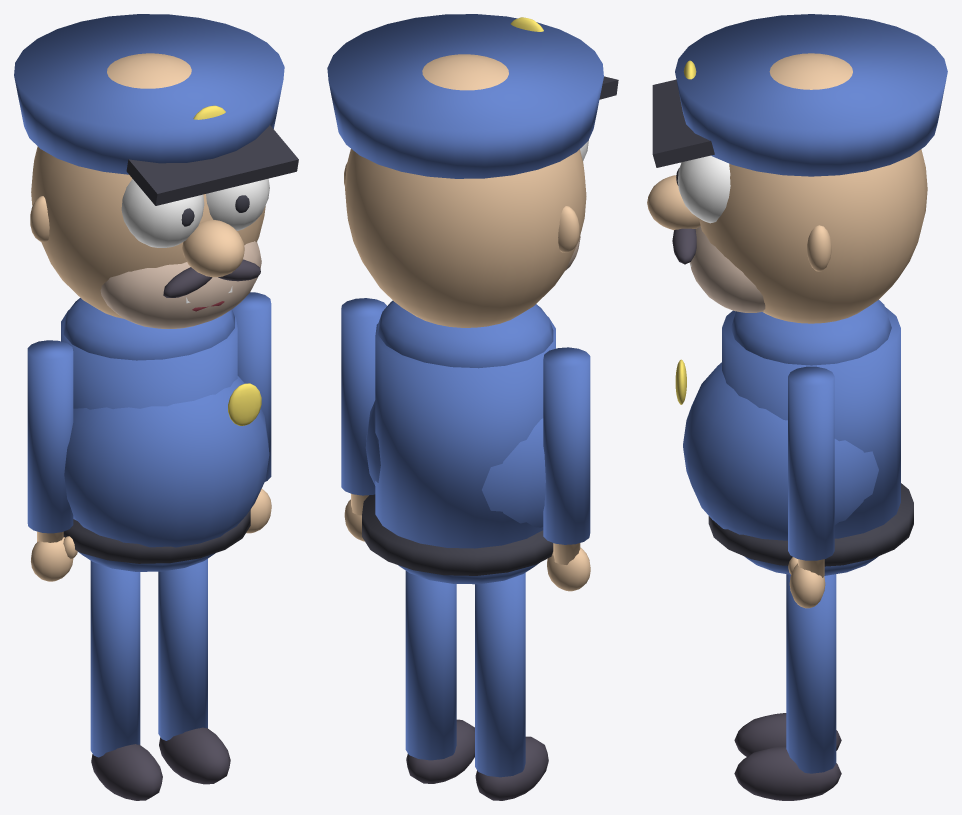
The model's file is Char_Polis.fbx.
3 renders of one model, left to right at view 1: azimuth 30°, elevation 25°; view 2: azimuth 150°, elevation 25°; view 3: azimuth 270°, elevation 25°, orthographic. The views are drawn at different scales.
Parts seen in each view (by area): view 1: Head, Torso, LegR, LegL, ArmR, ArmL; view 2: Head, Torso, LegR, LegL, ArmR, ArmL; view 3: Head, Torso, LegL, ArmL, LegR.
Part boxes in pixels (x1,y1,x2,y2): Head: (14, 14, 298, 328); Torso: (61, 298, 269, 571); LegR: (90, 561, 162, 800); LegL: (158, 559, 230, 784); ArmR: (27, 340, 77, 581); ArmL: (232, 292, 271, 533); Head: (327, 14, 618, 327); Torso: (362, 300, 555, 584); LegR: (475, 573, 548, 800); LegL: (405, 571, 474, 783); ArmR: (543, 347, 590, 591); ArmL: (341, 298, 386, 541); Head: (647, 14, 947, 323); Torso: (675, 300, 913, 575); LegL: (734, 574, 841, 800); ArmL: (788, 366, 834, 608); LegR: (734, 713, 841, 756).
Bounding box in the file's own units: 0.7077 × 2.04 × 0.7735.
